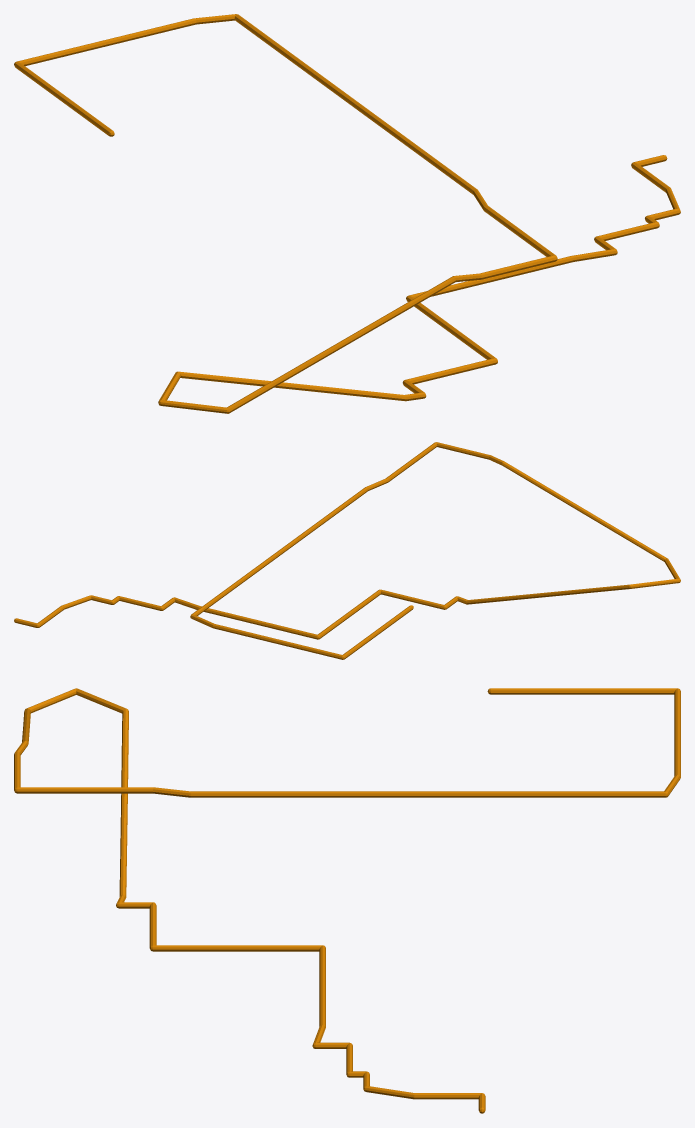
The picture shows the model from 3 angles, top to bottom: view 1: azimuth 30°, elevation 25°; view 2: azimuth 150°, elevation 25°; view 3: azimuth 270°, elevation 25°; orthographic projection. The views are drawn at different scales.
Size of the model in its own units: 2406 by 520 by 1966.
